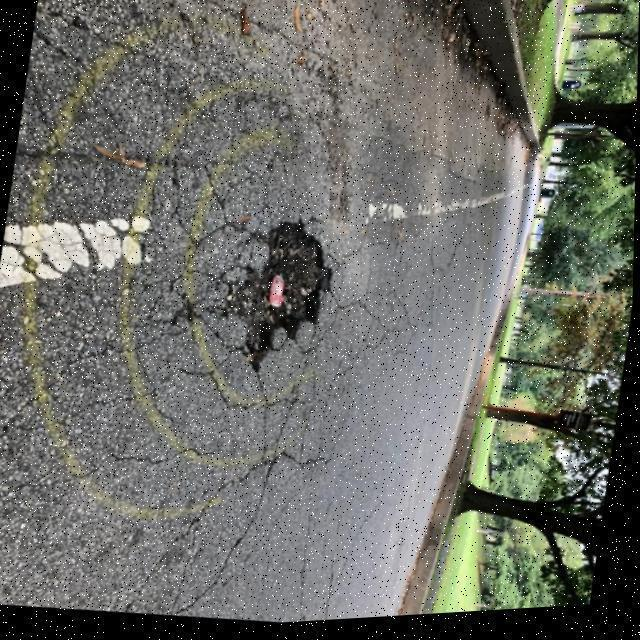Pothole: (219, 217, 334, 371)
